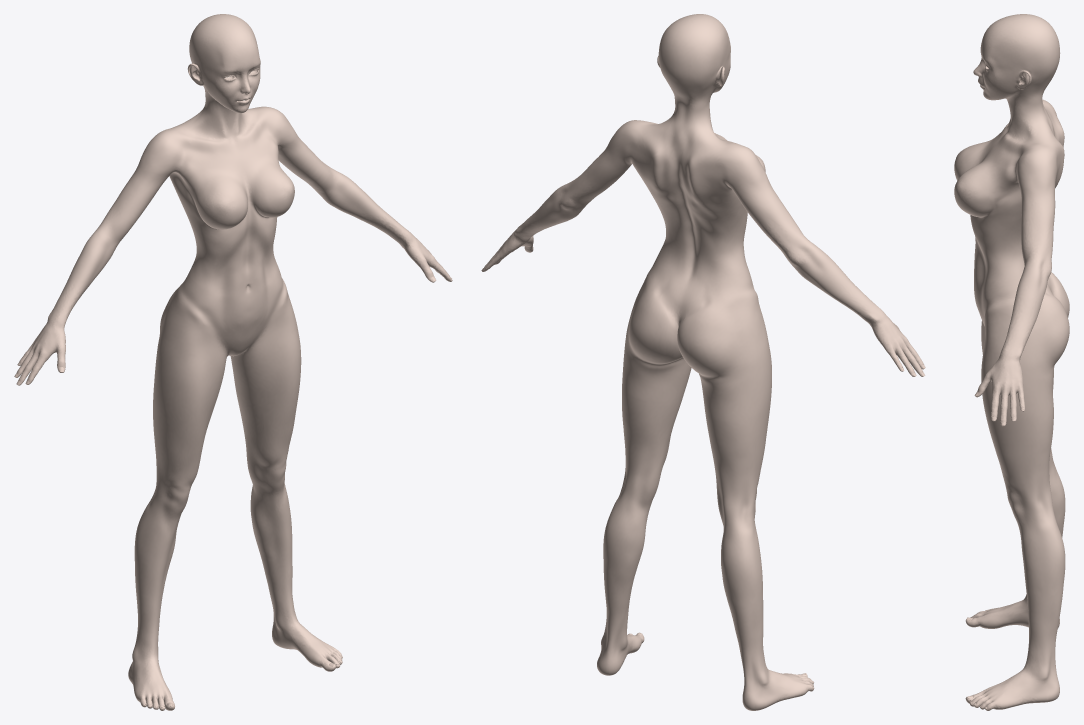
The model's file is female_body.glb.
3 views of the same model, side by side, from view 1: azimuth 30°, elevation 25°; view 2: azimuth 150°, elevation 25°; view 3: azimuth 270°, elevation 25° (orthographic). The views are drawn at different scales.
Visible parts, largest first — view 1: female_body; view 2: female_body; view 3: female_body.
Boxes of the visible parts, bbox=[...] form: female_body: bbox=[14, 14, 452, 710]; female_body: bbox=[481, 14, 925, 710]; female_body: bbox=[954, 14, 1069, 710].
Bounding box in the file's own units: 124 × 179 × 28.85.
